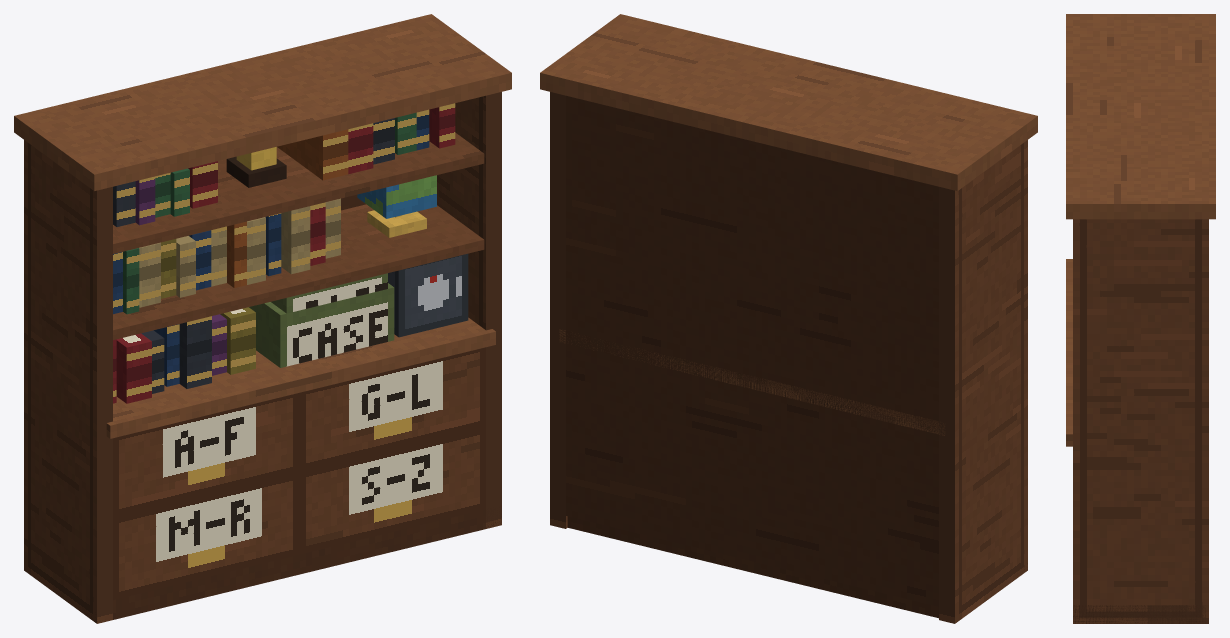
The model's file is cabinet.glb.
The picture shows the model from 3 angles, left to right: view 1: azimuth 30°, elevation 25°; view 2: azimuth 150°, elevation 25°; view 3: azimuth 270°, elevation 25°; orthographic projection. The views are drawn at different scales.
Parts seen in each view (by area): view 1: cabinet; view 2: cabinet; view 3: cabinet.
Boxes of the visible parts, x1,y1,x2,y2 form: cabinet: [14, 14, 511, 623]; cabinet: [540, 14, 1037, 623]; cabinet: [1066, 14, 1215, 623].
Size of the model in its own units: 2.06 by 2.14 by 0.6875.
1 material, 1 textured.
